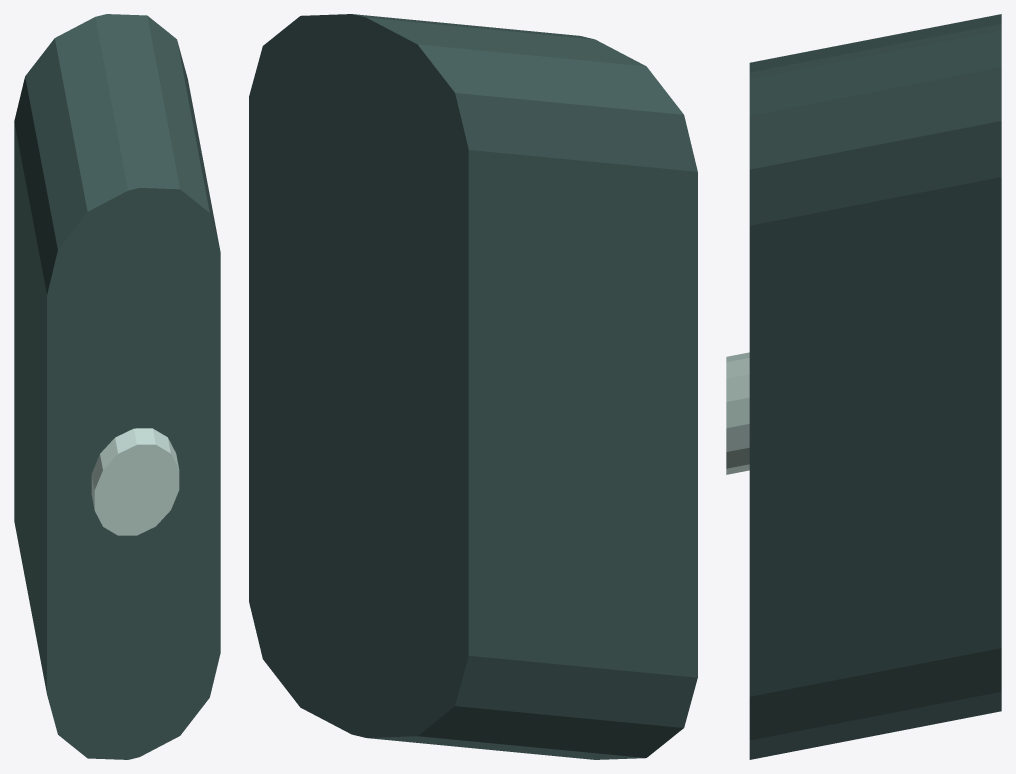
File: Edge_Shutter.gltf
3 renders of one model, left to right at view 1: azimuth 30°, elevation 25°; view 2: azimuth 150°, elevation 25°; view 3: azimuth 270°, elevation 25°, orthographic. The views are drawn at different scales.
Visible parts, largest first — view 1: Edge_Shutter_baked; view 2: Edge_Shutter_baked; view 3: Edge_Shutter_baked.
Boxes of the visible parts, bbox=[...] form: Edge_Shutter_baked: bbox=[14, 14, 220, 759]; Edge_Shutter_baked: bbox=[249, 14, 697, 759]; Edge_Shutter_baked: bbox=[726, 14, 1001, 759].
Bounding box in the file's own units: 0.428 × 1.07 × 0.35.
